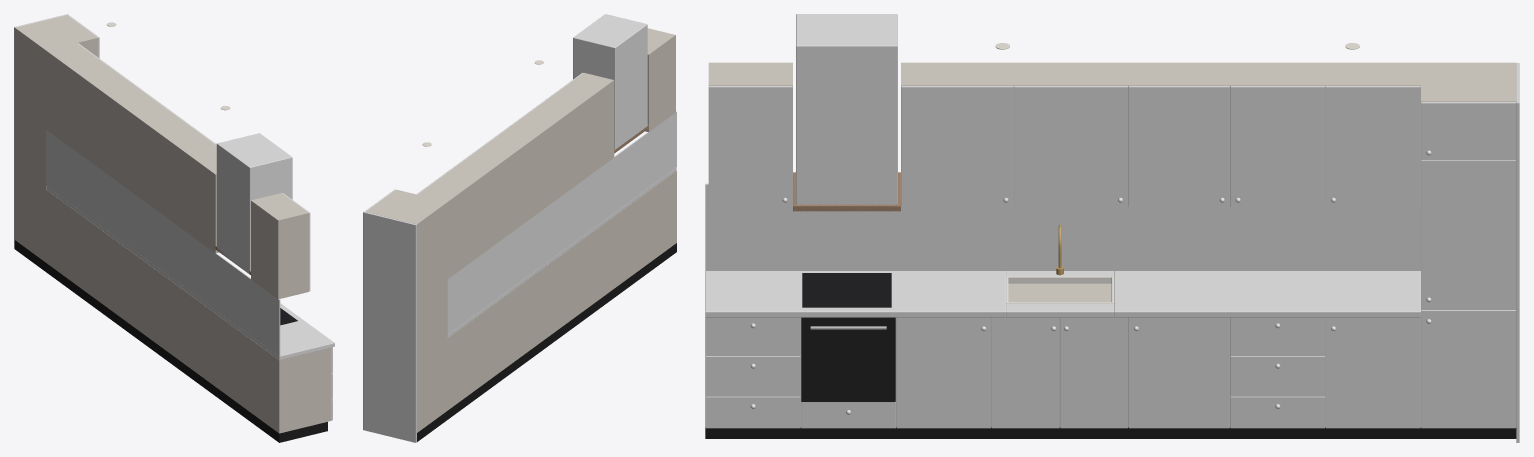
Rendered from kitchen__1_2.glb.
The picture shows the model from 3 angles, left to right: view 1: azimuth 30°, elevation 25°; view 2: azimuth 150°, elevation 25°; view 3: azimuth 270°, elevation 25°; orthographic projection. The views are drawn at different scales.
Visible parts, largest first — view 1: upper carcass, carcass, splashback, tall carcass, hood, plinth, worktop, upper fronts; view 2: upper carcass, carcass, splashback, fridge end panel, tall carcass, hood, plinth, worktop, upper fronts; view 3: fronts, upper fronts, splashback, worktop, hood, upper carcass, plinth, oven, tall carcass, carcass, hob, fridge end panel (+2 smaller).
Boxes of the visible parts, x1,y1,x2,y2 form: upper carcass: (46, 43, 308, 299); carcass: (46, 189, 331, 433); splashback: (46, 129, 280, 356); tall carcass: (15, 15, 98, 262); hood: (216, 133, 292, 273); plinth: (15, 240, 327, 442); worktop: (46, 186, 334, 359); upper fronts: (77, 43, 310, 291); upper carcass: (418, 28, 675, 278); carcass: (447, 171, 676, 410); splashback: (447, 111, 676, 334); fridge end panel: (363, 211, 416, 442); tall carcass: (366, 189, 447, 432); hood: (573, 14, 647, 149); plinth: (417, 243, 676, 441); worktop: (447, 167, 676, 337); upper fronts: (416, 72, 583, 194); fronts: (705, 102, 1515, 428); upper fronts: (709, 86, 1420, 207); splashback: (705, 183, 1420, 270); worktop: (705, 271, 1420, 317); hood: (796, 14, 897, 204); upper carcass: (708, 62, 1420, 206); plinth: (705, 427, 1516, 438); oven: (801, 317, 895, 402); tall carcass: (1421, 62, 1516, 426); carcass: (705, 283, 1420, 427); hob: (802, 273, 891, 307); fridge end panel: (1516, 63, 1519, 442).
Size of the model in its own units: 0.63 by 2.7 by 5.12.
Materials: 16 (1 with a texture image).
